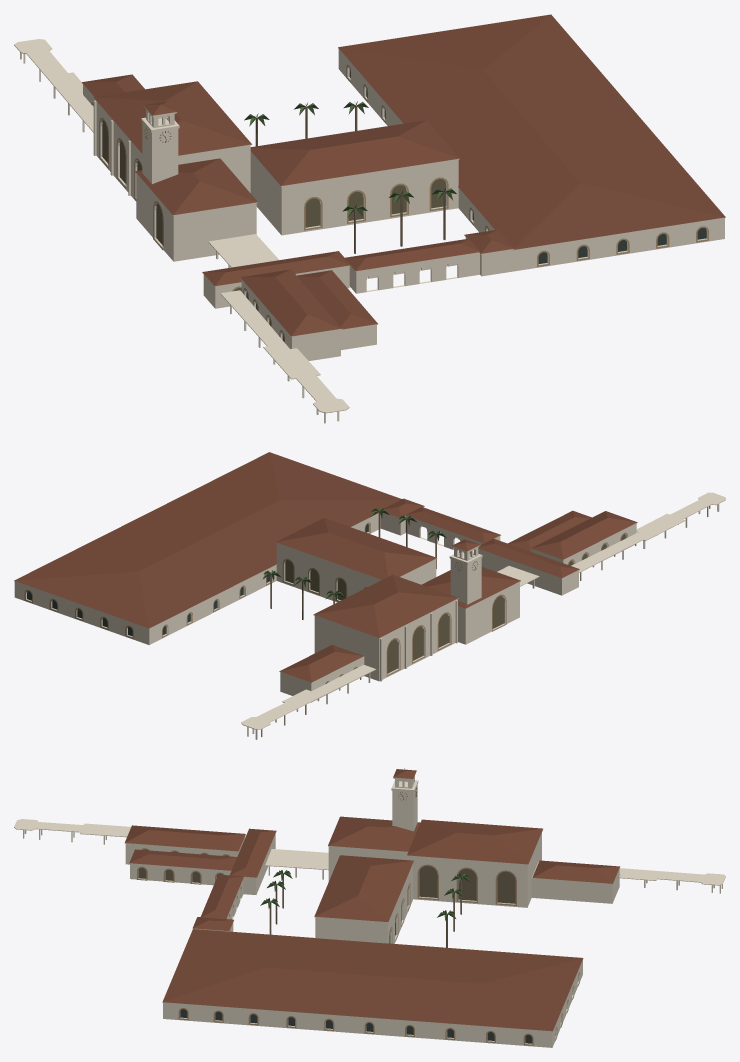
The model's file is los-angeles-union-station-far.glb.
3 renders of one model, top to bottom at view 1: azimuth 30°, elevation 25°; view 2: azimuth 150°, elevation 25°; view 3: azimuth 270°, elevation 25°, orthographic. The views are drawn at different scales.
Parts seen in each view (by area): view 1: los-angeles-union-station-0-roof, los-angeles-union-station-0-stucco, los-angeles-union-station-0-glow, los-angeles-union-station-0-trim, los-angeles-union-station-0-foliage; view 2: los-angeles-union-station-0-roof, los-angeles-union-station-0-stucco, los-angeles-union-station-0-glow, los-angeles-union-station-0-trim, los-angeles-union-station-0-foliage; view 3: los-angeles-union-station-0-roof, los-angeles-union-station-0-stucco, los-angeles-union-station-0-glow, los-angeles-union-station-0-trim, los-angeles-union-station-0-glass, los-angeles-union-station-0-foliage.
Boxes of the visible parts, bbox=[...] form: los-angeles-union-station-0-roof: bbox=[82, 14, 725, 336]; los-angeles-union-station-0-stucco: bbox=[14, 39, 725, 423]; los-angeles-union-station-0-glow: bbox=[102, 120, 445, 341]; los-angeles-union-station-0-trim: bbox=[91, 64, 708, 342]; los-angeles-union-station-0-foliage: bbox=[244, 101, 456, 217]; los-angeles-union-station-0-roof: bbox=[14, 452, 637, 682]; los-angeles-union-station-0-stucco: bbox=[14, 492, 725, 739]; los-angeles-union-station-0-glow: bbox=[285, 534, 625, 683]; los-angeles-union-station-0-trim: bbox=[24, 522, 627, 684]; los-angeles-union-station-0-foliage: bbox=[262, 508, 446, 600]; los-angeles-union-station-0-roof: bbox=[125, 769, 619, 1031]; los-angeles-union-station-0-stucco: bbox=[14, 772, 725, 1047]; los-angeles-union-station-0-glow: bbox=[138, 849, 515, 943]; los-angeles-union-station-0-trim: bbox=[137, 848, 579, 1045]; los-angeles-union-station-0-glass: bbox=[180, 1009, 532, 1043]; los-angeles-union-station-0-foliage: bbox=[260, 870, 470, 920].
Bounding box in the file's own units: 188 × 38.71 × 260.
